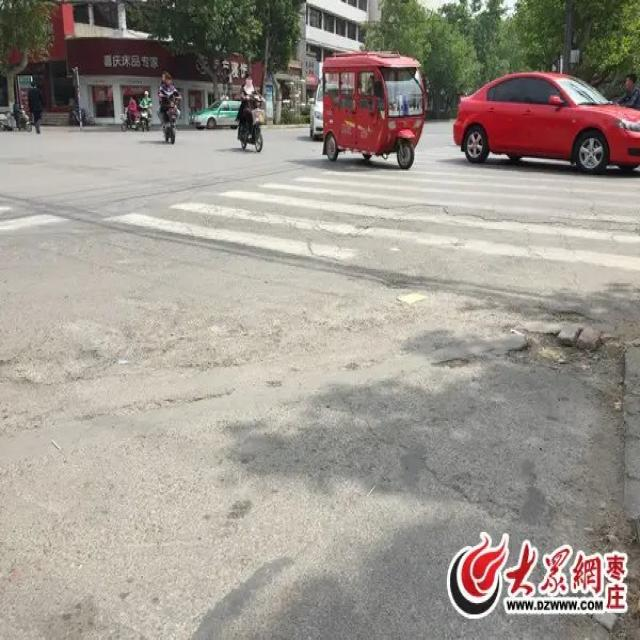Pothole: (511, 316, 626, 425), (435, 353, 467, 374)
